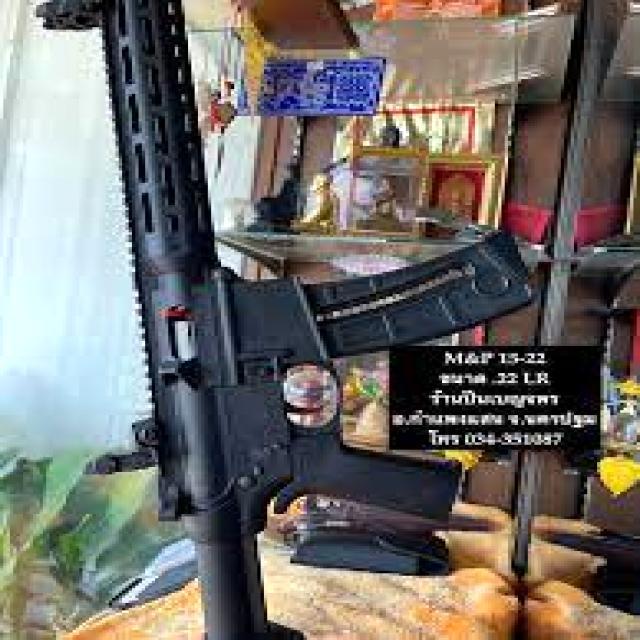m16: (41, 41, 492, 577)
